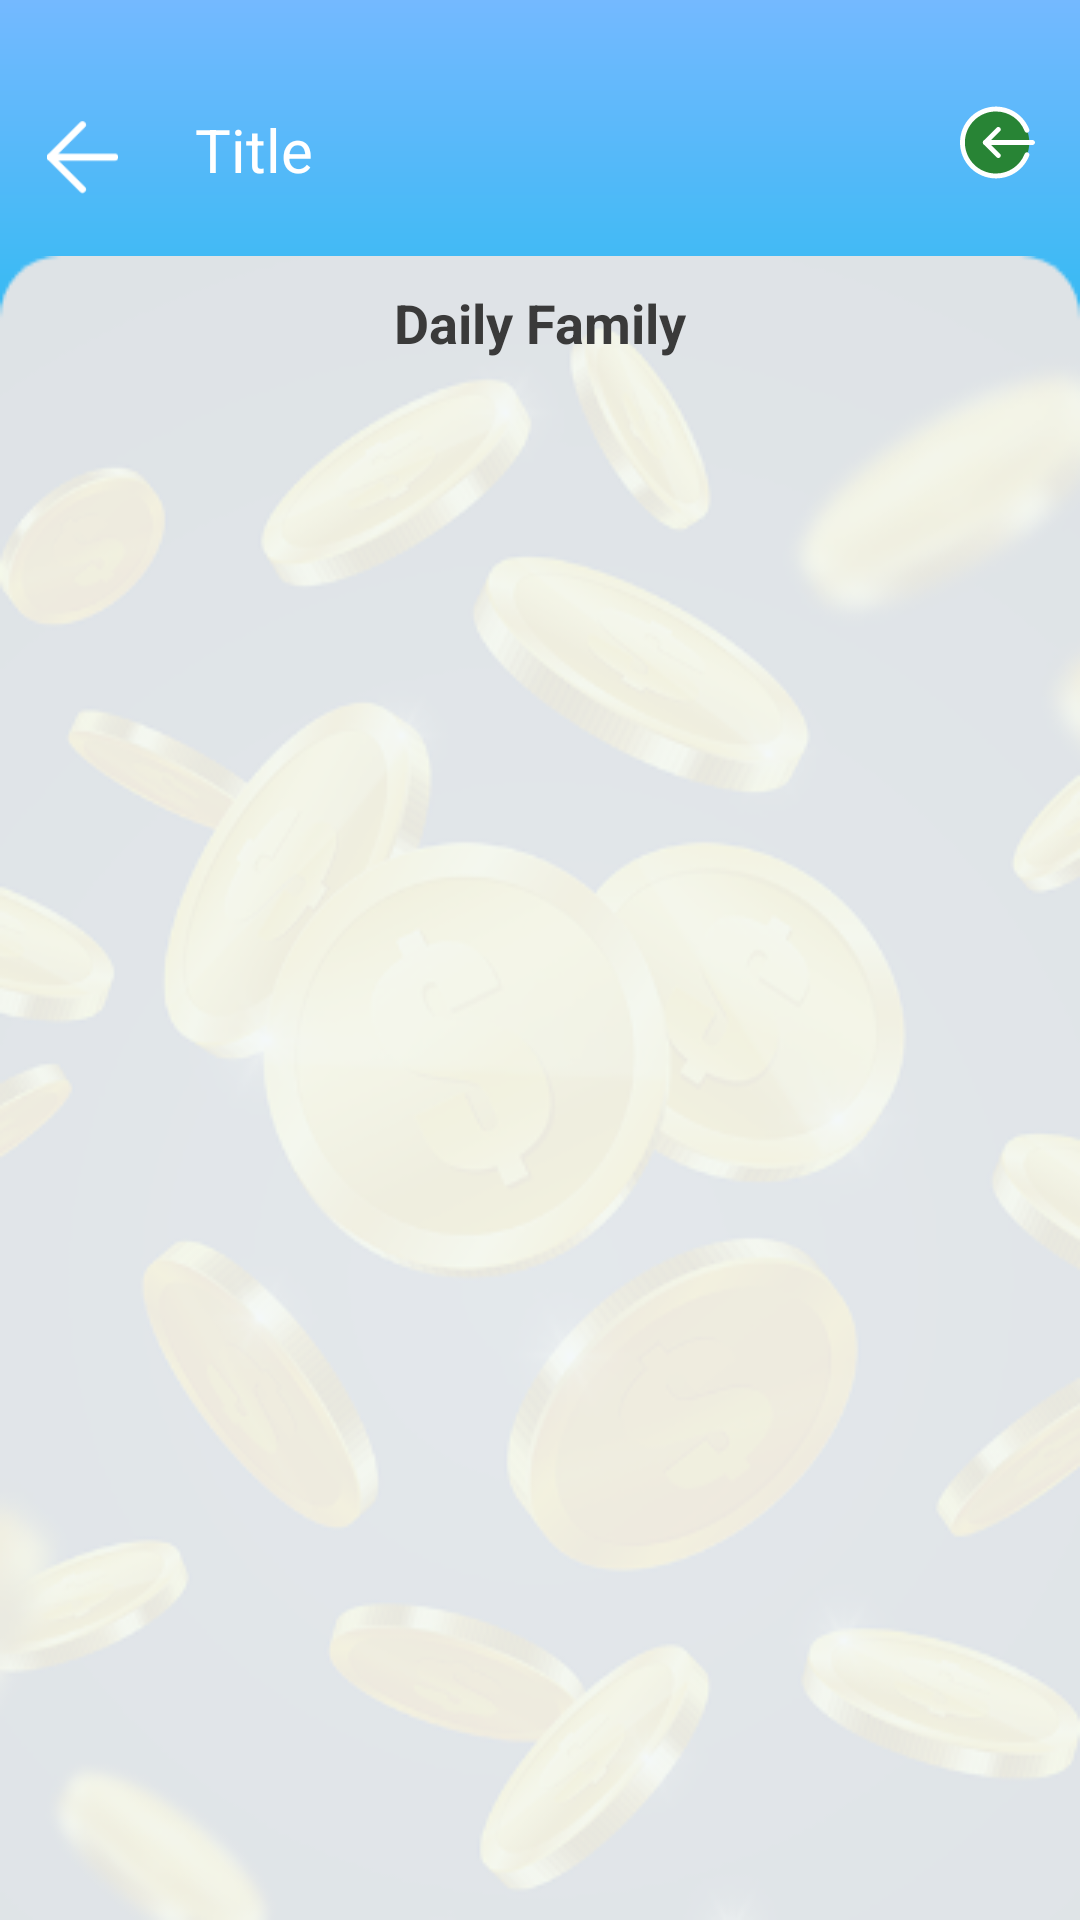

Where icons sit on this 1080 × 1920 app screen, as bbox=[x1, y1, x2, y2]:
arrow left: bbox=[47, 121, 118, 193]
